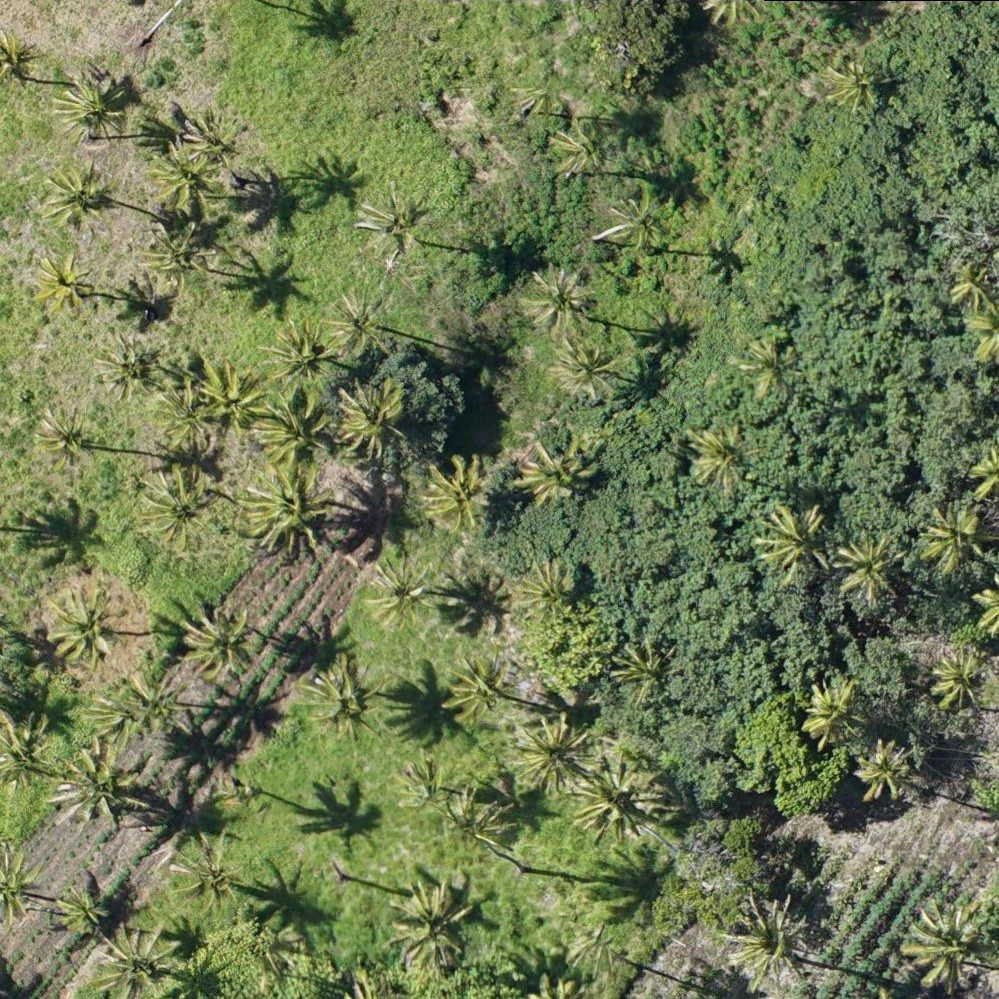Palm: (389, 882, 474, 969), (732, 899, 811, 992), (901, 899, 985, 985), (55, 743, 137, 830), (577, 758, 662, 839), (138, 468, 220, 546), (38, 589, 121, 666), (148, 144, 227, 220), (247, 474, 323, 552), (98, 924, 178, 998), (422, 455, 495, 536), (258, 395, 334, 472), (518, 262, 594, 339), (306, 667, 379, 744), (518, 714, 590, 792), (517, 438, 600, 505), (336, 381, 406, 459), (761, 499, 827, 577), (140, 221, 216, 288), (42, 163, 113, 231), (835, 531, 901, 604), (198, 364, 266, 434), (683, 427, 751, 496), (56, 78, 123, 148), (169, 842, 237, 910), (367, 556, 429, 630), (264, 325, 335, 389), (183, 606, 249, 674), (549, 333, 618, 398), (614, 634, 679, 701), (445, 784, 515, 846), (921, 505, 984, 573), (327, 289, 388, 359), (156, 384, 221, 449), (360, 193, 425, 258), (738, 336, 800, 404), (823, 54, 888, 118), (34, 251, 96, 316), (96, 336, 161, 397), (804, 677, 862, 744), (448, 656, 510, 717), (123, 668, 182, 732), (35, 408, 96, 469), (935, 648, 990, 714), (179, 110, 240, 169), (853, 739, 910, 802), (86, 690, 144, 747), (615, 190, 672, 248), (517, 558, 574, 613), (51, 889, 106, 941), (551, 123, 601, 175), (400, 757, 447, 809)
